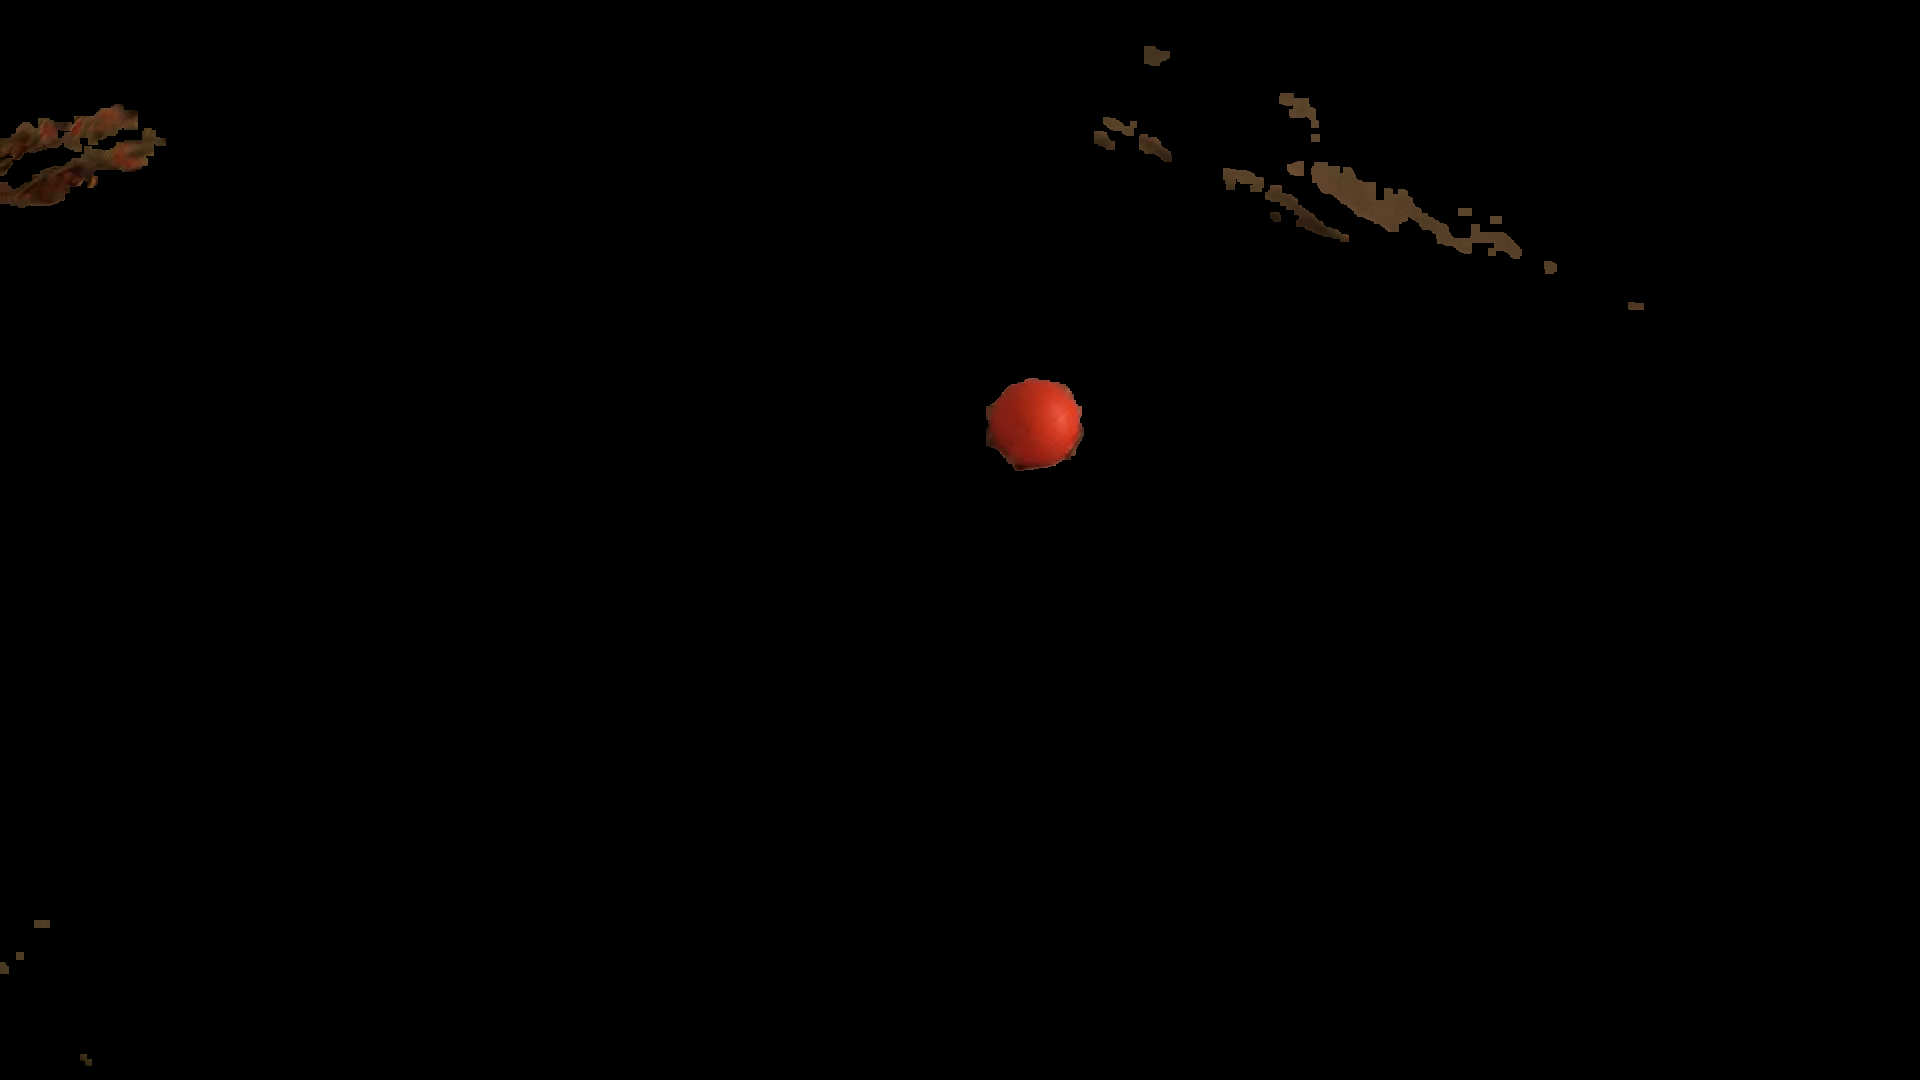Ball: (986, 380, 1081, 468)
